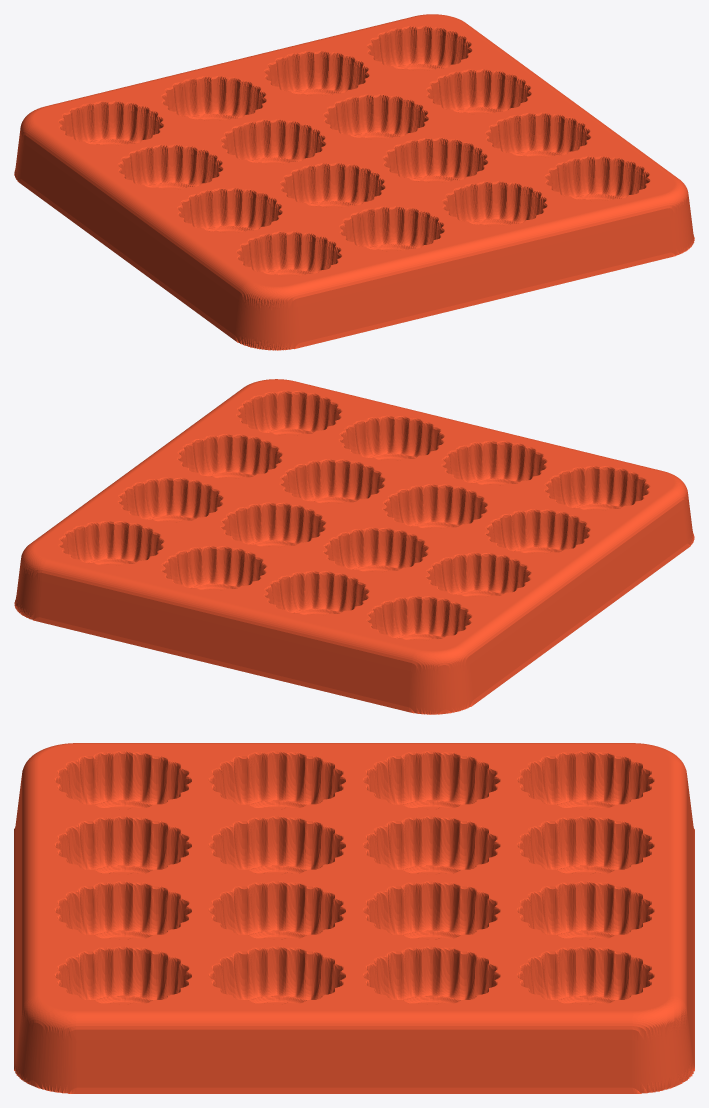
Rendered from mold.glb.
3 views of the same model, one above another, from view 1: azimuth 30°, elevation 25°; view 2: azimuth 150°, elevation 25°; view 3: azimuth 270°, elevation 25° (orthographic). The views are drawn at different scales.
Parts seen in each view (by area): view 1: geometry_0; view 2: geometry_0; view 3: geometry_0.
Part boxes in pixels (x1,y1,x2,y2): geometry_0: [14, 14, 694, 350]; geometry_0: [14, 379, 694, 714]; geometry_0: [14, 743, 694, 1093].
Bounding box in the file's own units: 0.0972 × 0.0114 × 0.0972.
